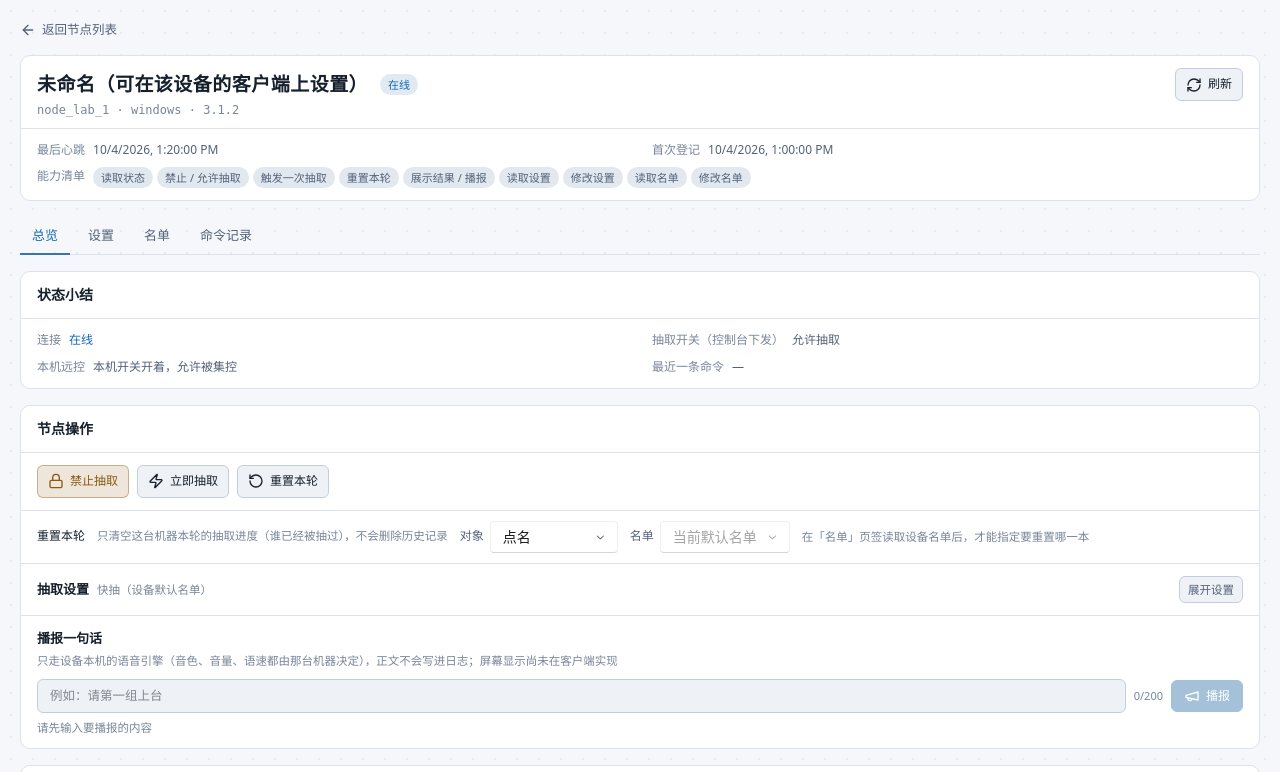
Scenario: NodeDetailView 动作下发 › 锁 / 解锁走期望状态，并展示 revision 与是否投递
What coordinates should you click on to do the following:
click the button with test id "node-detail-lock"
I would click on:
 (83, 481)
Its box is [37,465,129,498].
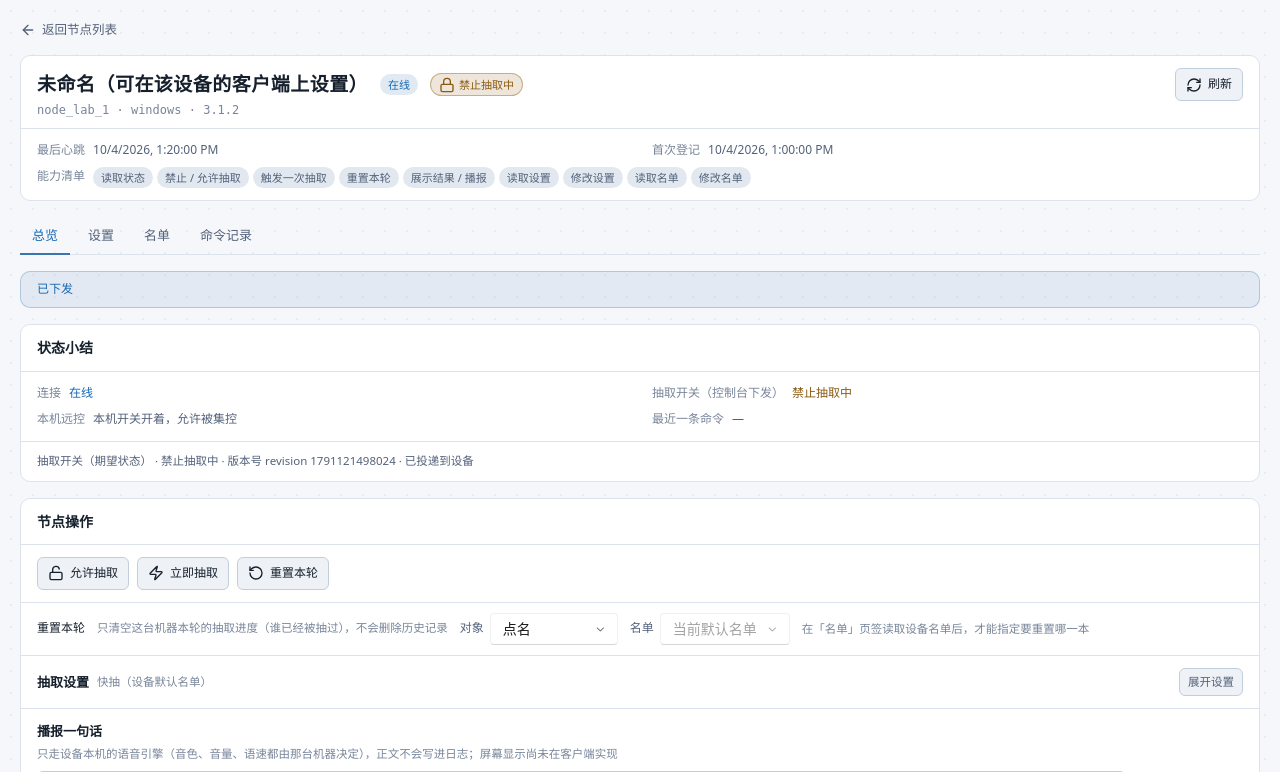
expect the text with test id "node-detail-desired" shows "1791121498024": met, box [37,453,474,468]
expect the text with test id "node-detail-desired" shows "已投递到设备": met, box [37,453,474,468]
expect the element with test id "node-detail-draw-locked" reads "禁止抽取中": met, box [459,77,514,92]
